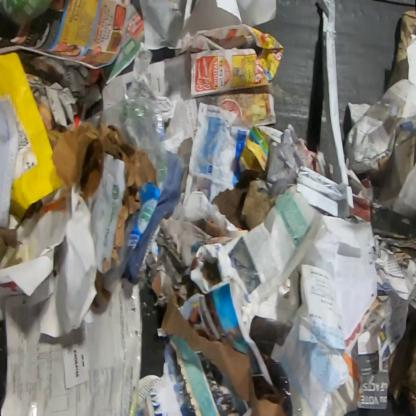cardboard: (156, 298, 288, 415), (209, 182, 275, 233)
soft_plastic: (0, 278, 144, 415), (102, 150, 185, 292), (84, 96, 168, 188), (0, 0, 54, 25)
